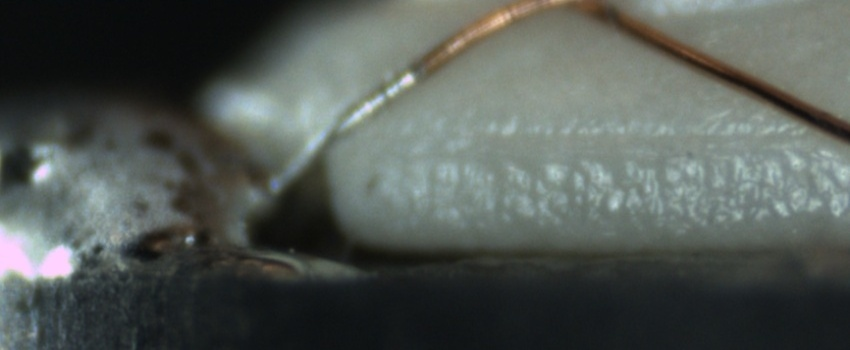DL: (358, 107, 801, 168)
TS: (249, 63, 424, 211)
